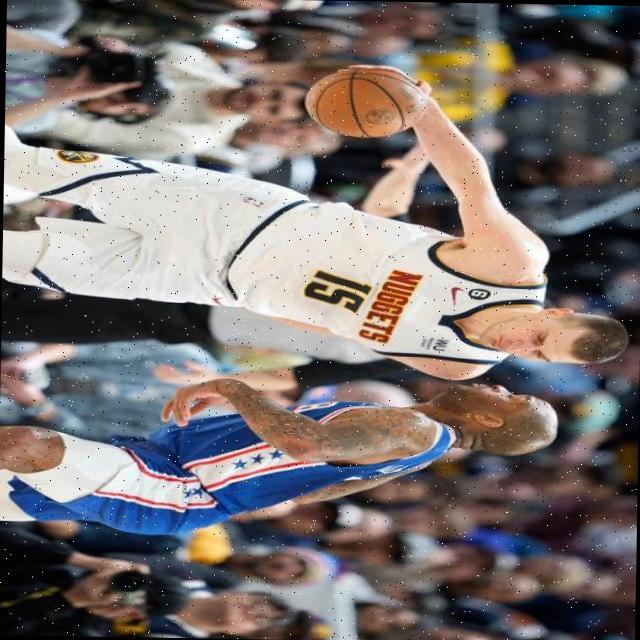ball: (300, 68, 428, 139)
